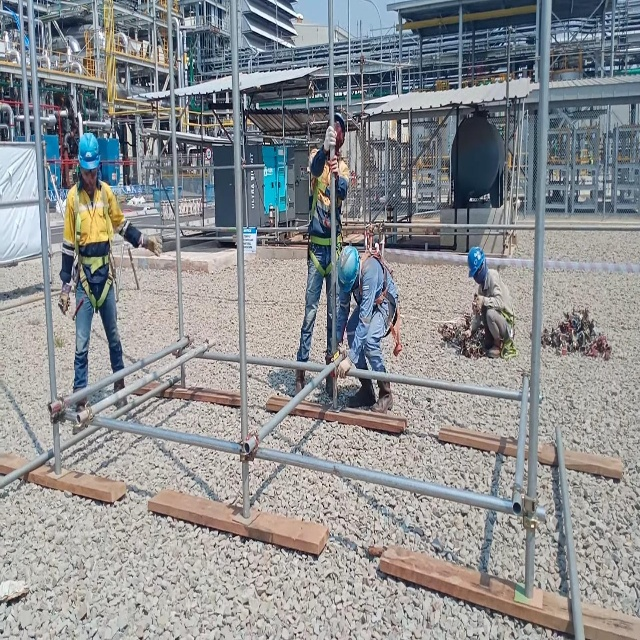Arnes_seguridad: (72, 177, 116, 314), (355, 239, 403, 363), (308, 168, 344, 280)
